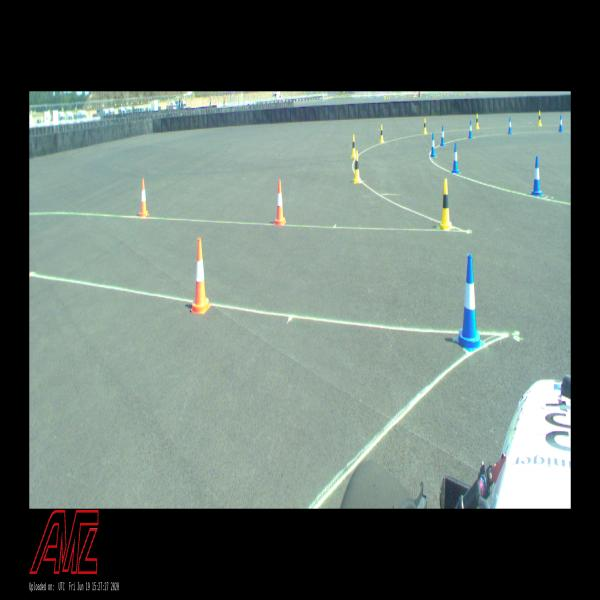blue_cone: (455, 255, 484, 352), (531, 157, 542, 195), (451, 143, 459, 173), (430, 133, 436, 157), (440, 125, 445, 146), (468, 121, 473, 138), (508, 117, 512, 134), (559, 115, 563, 132)
orange_cone: (190, 238, 211, 314), (274, 180, 286, 225), (138, 178, 150, 216)
yellow_cone: (439, 179, 452, 230), (353, 151, 361, 183), (351, 134, 356, 158), (380, 124, 384, 143), (423, 118, 427, 134), (538, 111, 542, 126), (476, 113, 479, 128)
